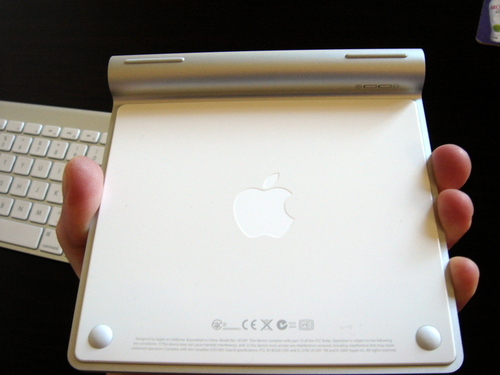Apple: (225, 163, 309, 249)
